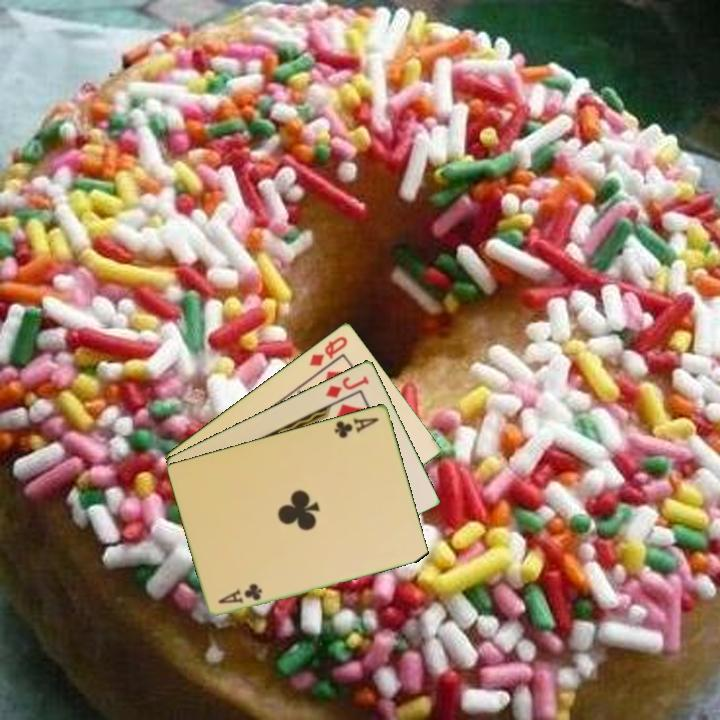Ac: (331, 414, 382, 441), (215, 580, 265, 606)
Jd: (322, 372, 372, 401)
Qd: (306, 332, 351, 369)
